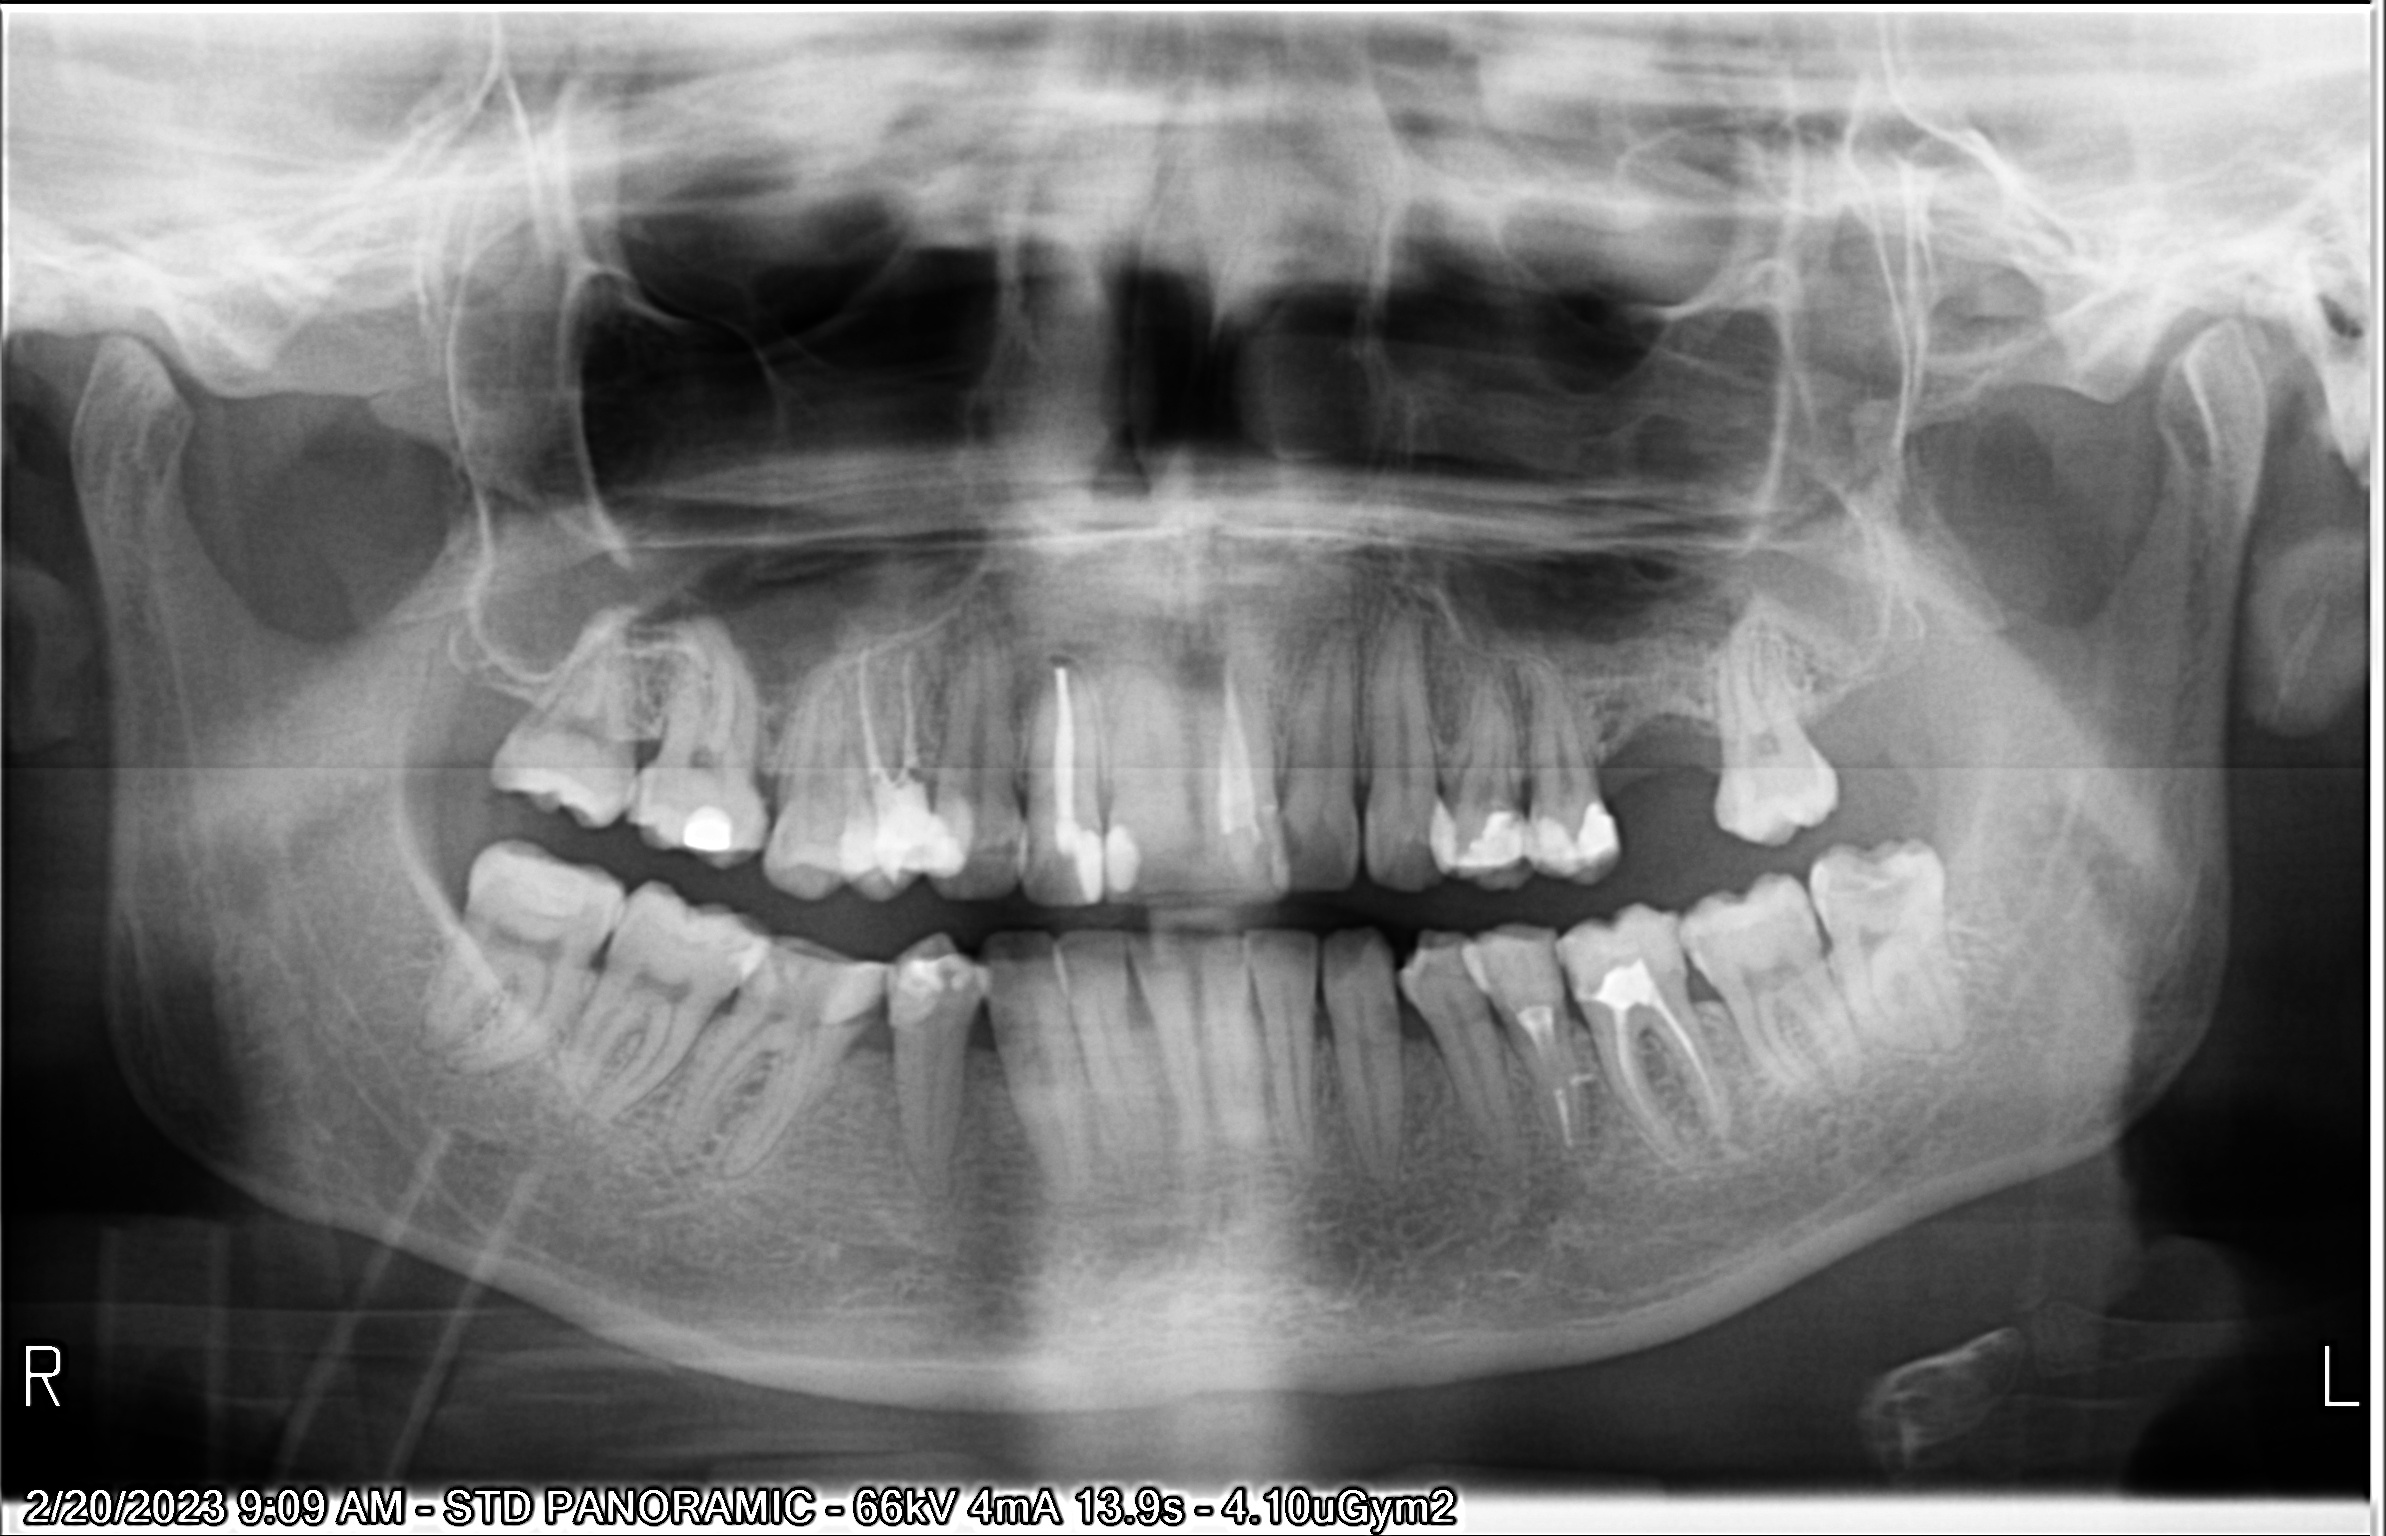BON: (823, 1005, 906, 1085), (1377, 983, 1450, 1065), (1579, 706, 1643, 795), (1332, 745, 1398, 830), (1675, 948, 1736, 1038), (955, 1000, 1016, 1080), (1680, 689, 1734, 776), (1303, 971, 1344, 1070), (737, 753, 802, 814), (619, 706, 676, 772)
END: (1609, 1002, 1718, 1148), (849, 642, 932, 804), (1518, 997, 1583, 1159), (1207, 651, 1257, 835), (1045, 658, 1090, 847)
OBT: (1572, 906, 1683, 1002), (875, 931, 976, 1026), (809, 952, 887, 1035), (887, 805, 965, 882), (821, 807, 885, 899), (1471, 798, 1539, 884), (675, 795, 750, 865), (711, 925, 774, 1002), (1572, 790, 1621, 875), (1532, 795, 1583, 868), (1430, 797, 1473, 873), (1059, 818, 1097, 901), (1101, 826, 1143, 901)
